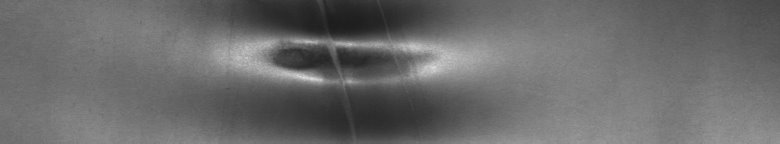ke: (234, 4, 451, 136)
